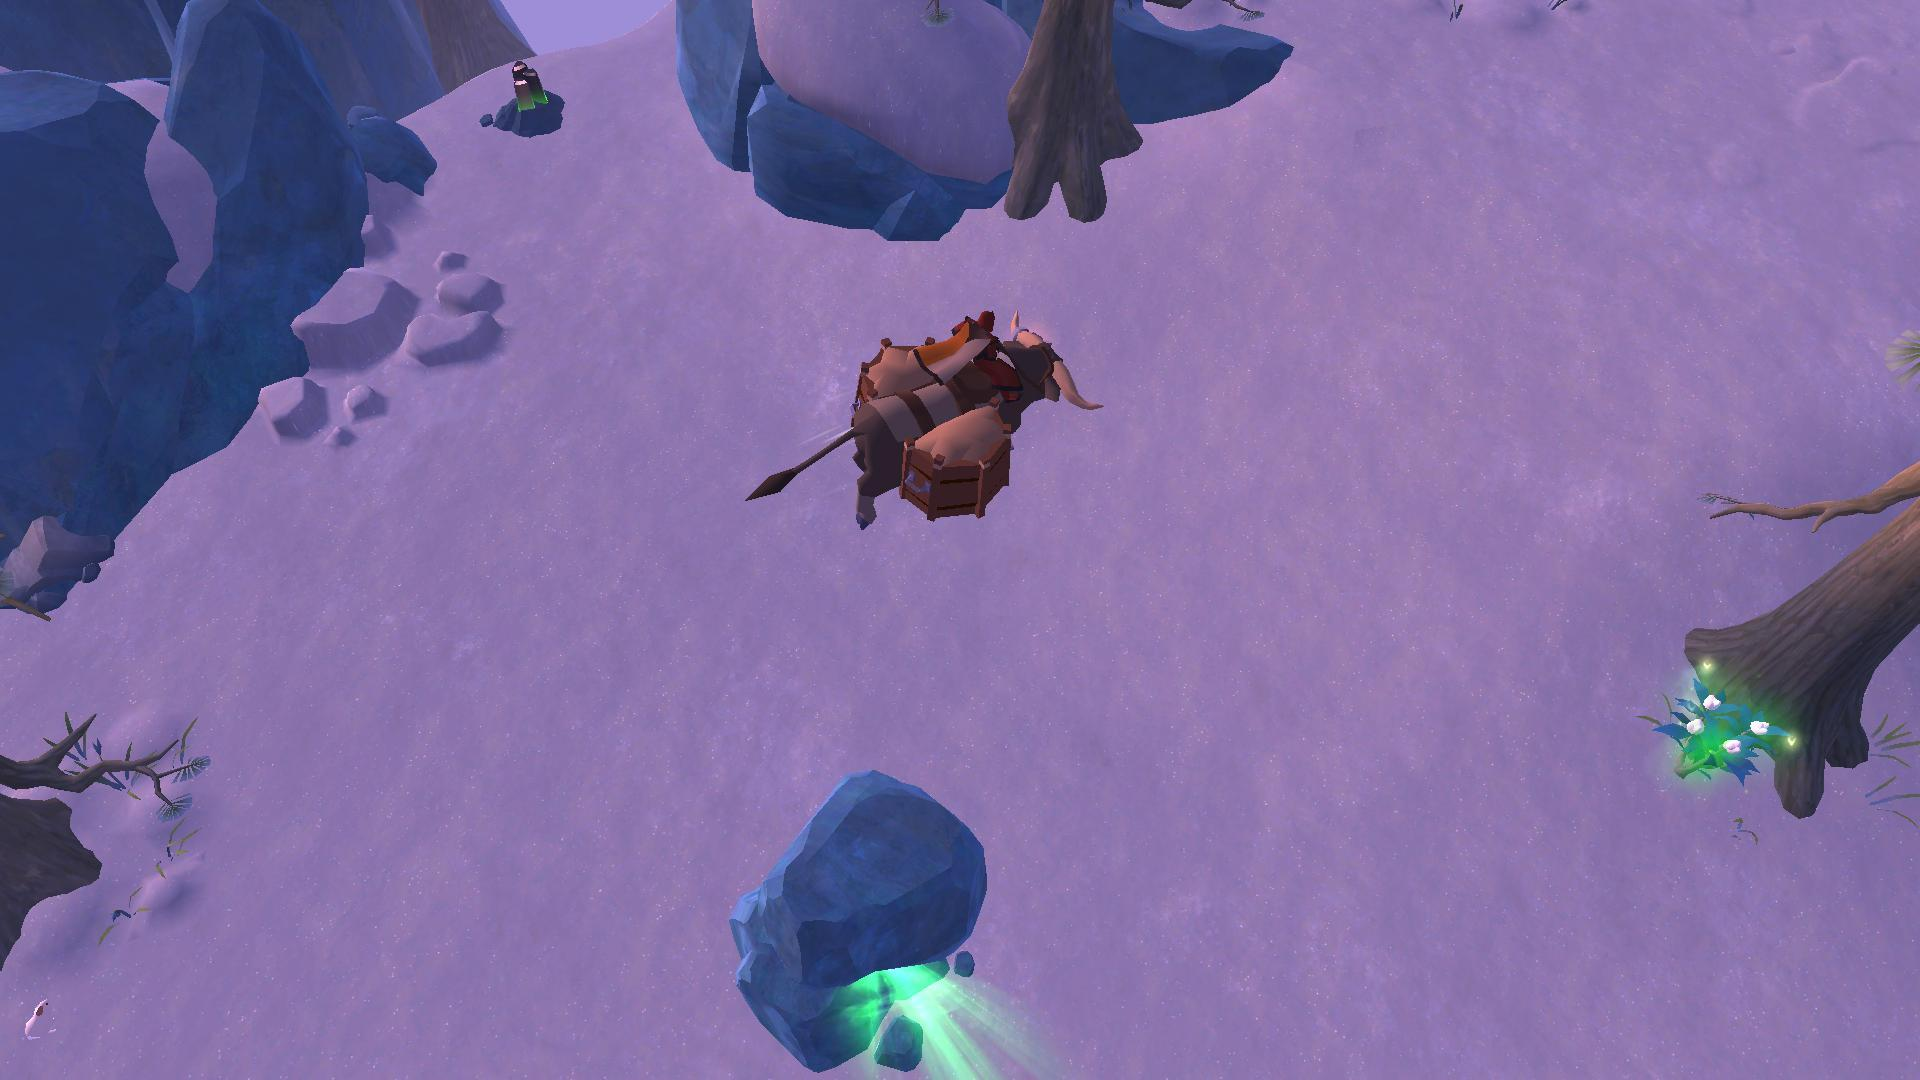ore_t3: (506, 61, 551, 121)
